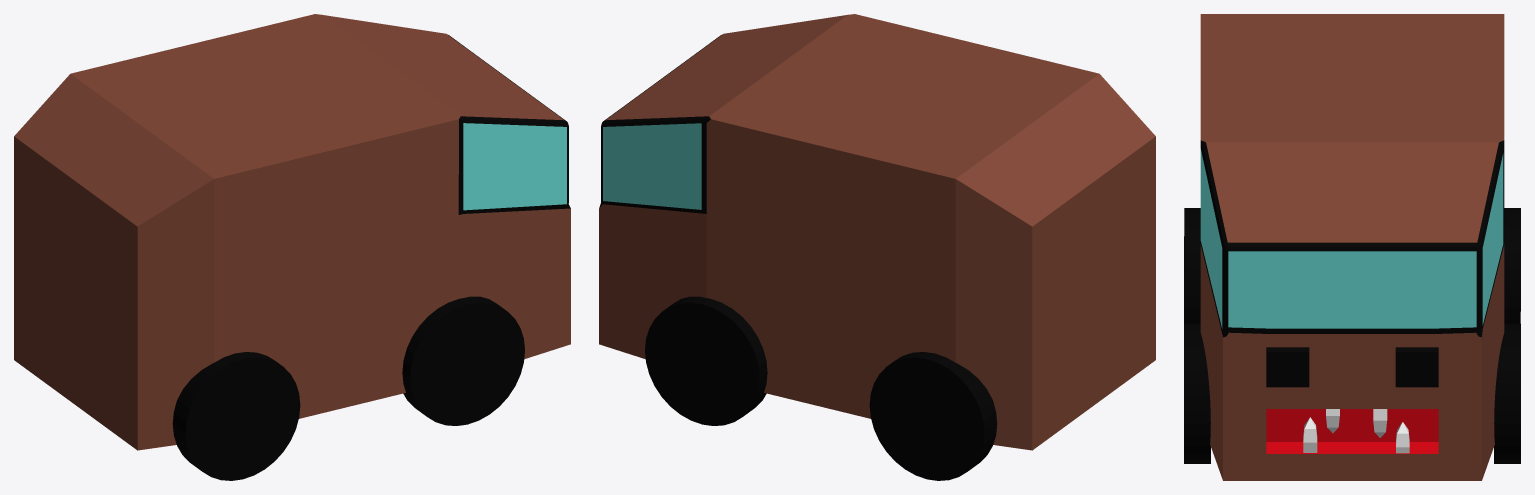
The model's file is truck.fbx.
3 views of the same model, side by side, from view 1: azimuth 30°, elevation 25°; view 2: azimuth 150°, elevation 25°; view 3: azimuth 270°, elevation 25° (orthographic). The views are drawn at different scales.
Visible parts, largest first — view 1: Cube; view 2: Cube; view 3: Cube.
Boxes of the visible parts, x1=… form: Cube: x1=14, y1=14, x2=570, y2=480; Cube: x1=599, y1=14, x2=1155, y2=480; Cube: x1=1184, y1=14, x2=1520, y2=480.
Bounding box in the file's own units: 356 × 230 × 222.
